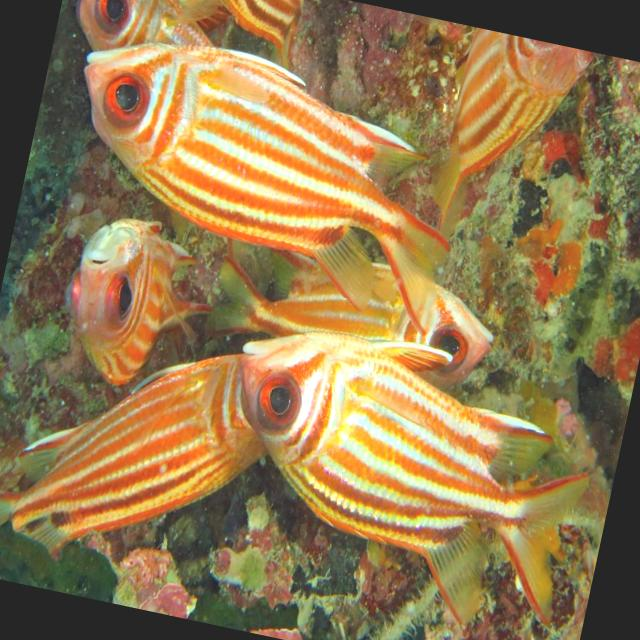Asker Baligi: (40, 16, 484, 339), (192, 304, 610, 640)
